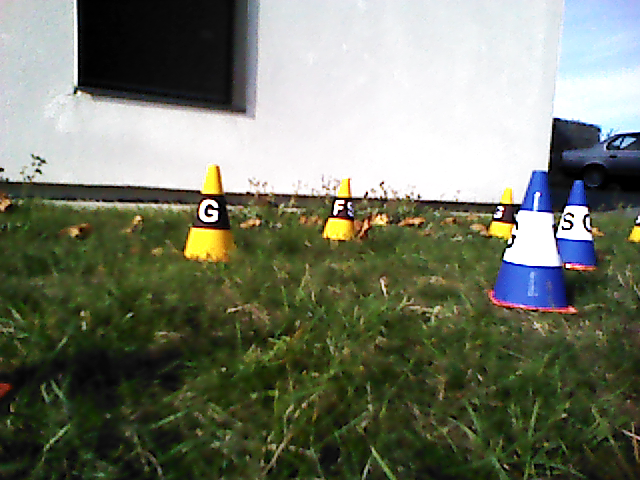bluecone: (497, 170, 568, 306), (561, 181, 596, 263)
yellowcone: (186, 166, 237, 259), (324, 179, 356, 239), (489, 188, 516, 235)
